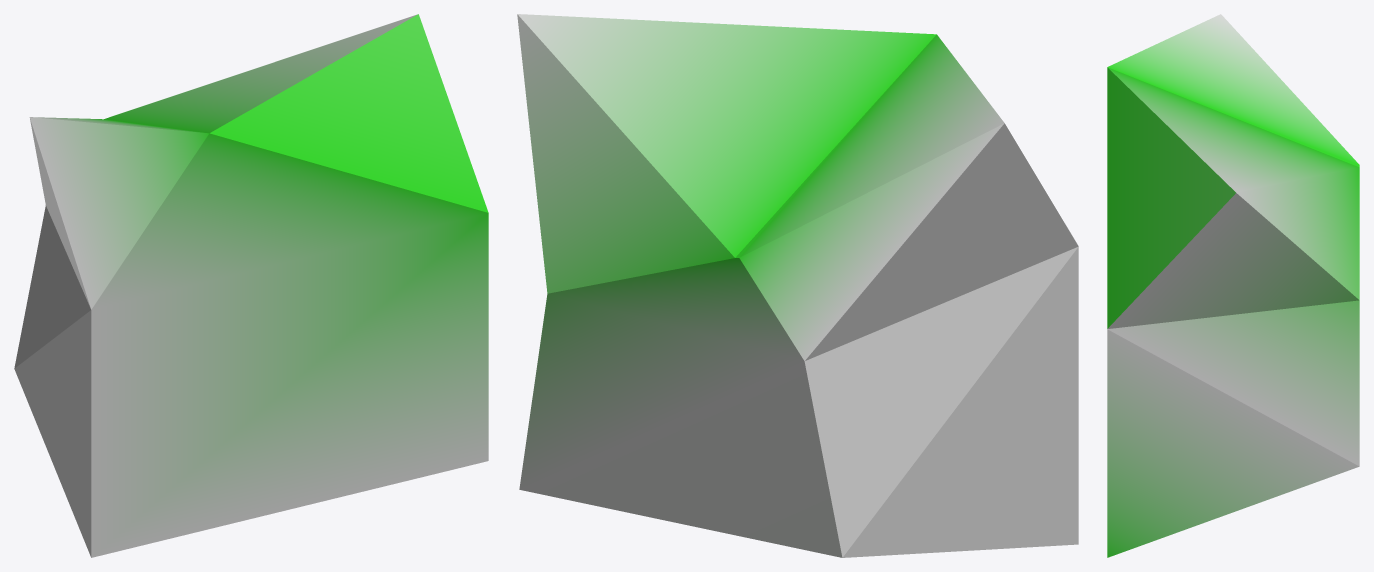
3 renders of one model, left to right at view 1: azimuth 30°, elevation 25°; view 2: azimuth 150°, elevation 25°; view 3: azimuth 270°, elevation 25°, orthographic. The views are drawn at different scales.
Parts seen in each view (by area): view 1: Cube; view 2: Cube; view 3: Cube.
Part boxes in pixels (x1,y1,x2,y2): Cube: (14,14,488,557); Cube: (517,14,1078,557); Cube: (1107,14,1359,557).
Bounding box in the file's own units: 3.35 × 2 × 3.19.
